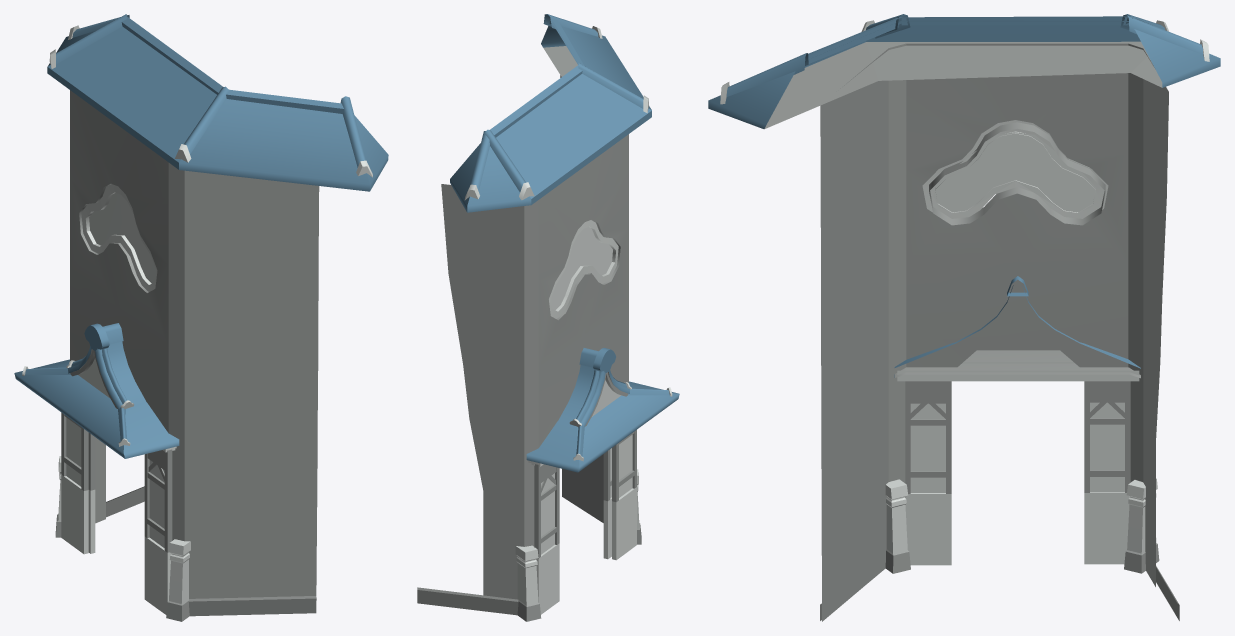
The picture shows the model from 3 angles, left to right: view 1: azimuth 30°, elevation 25°; view 2: azimuth 150°, elevation 25°; view 3: azimuth 270°, elevation 25°; orthographic projection. The views are drawn at different scales.
Visible parts, largest first — view 1: G:\FFXIV-MapTools\exports\e3t1\bg\ex2\02_est_e3\twn\e3t1\bgp (×12); view 2: G:\FFXIV-MapTools\exports\e3t1\bg\ex2\02_est_e3\twn\e3t1\bgp (×14); view 3: G:\FFXIV-MapTools\exports\e3t1\bg\ex2\02_est_e3\twn\e3t1\bgp (×10).
Part boxes in pixels (x1,y1,x2,y2): G:\FFXIV-MapTools\exports\e3t1\bg\ex2\02_est_e3\twn\e3t1\bgp (×12): (14, 14, 388, 621); G:\FFXIV-MapTools\exports\e3t1\bg\ex2\02_est_e3\twn\e3t1\bgp (×14): (417, 14, 679, 621); G:\FFXIV-MapTools\exports\e3t1\bg\ex2\02_est_e3\twn\e3t1\bgp (×10): (708, 14, 1220, 621).
Bounding box in the file's own units: 13.18 × 31.19 × 24.91.
